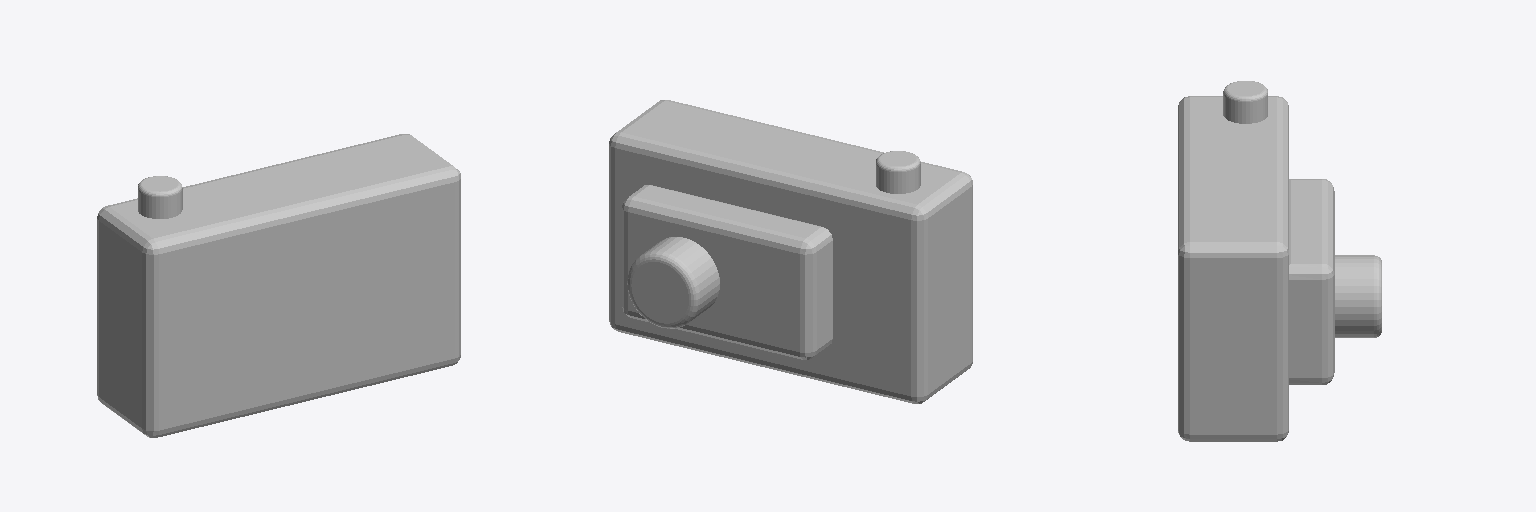
File: daphne.obj
The picture shows the model from 3 angles: view 1: azimuth 30°, elevation 25°; view 2: azimuth 150°, elevation 25°; view 3: azimuth 270°, elevation 25°; orthographic projection.
Visible parts, largest first — view 1: appareilPhoto; view 2: appareilPhoto; view 3: appareilPhoto.
Boxes of the visible parts, box(x1,y1,x2,y2) form: appareilPhoto: box(97, 134, 460, 437); appareilPhoto: box(609, 100, 972, 403); appareilPhoto: box(1178, 81, 1381, 441).
Bounding box in the file's own units: 59.55 × 40.23 × 33.26.